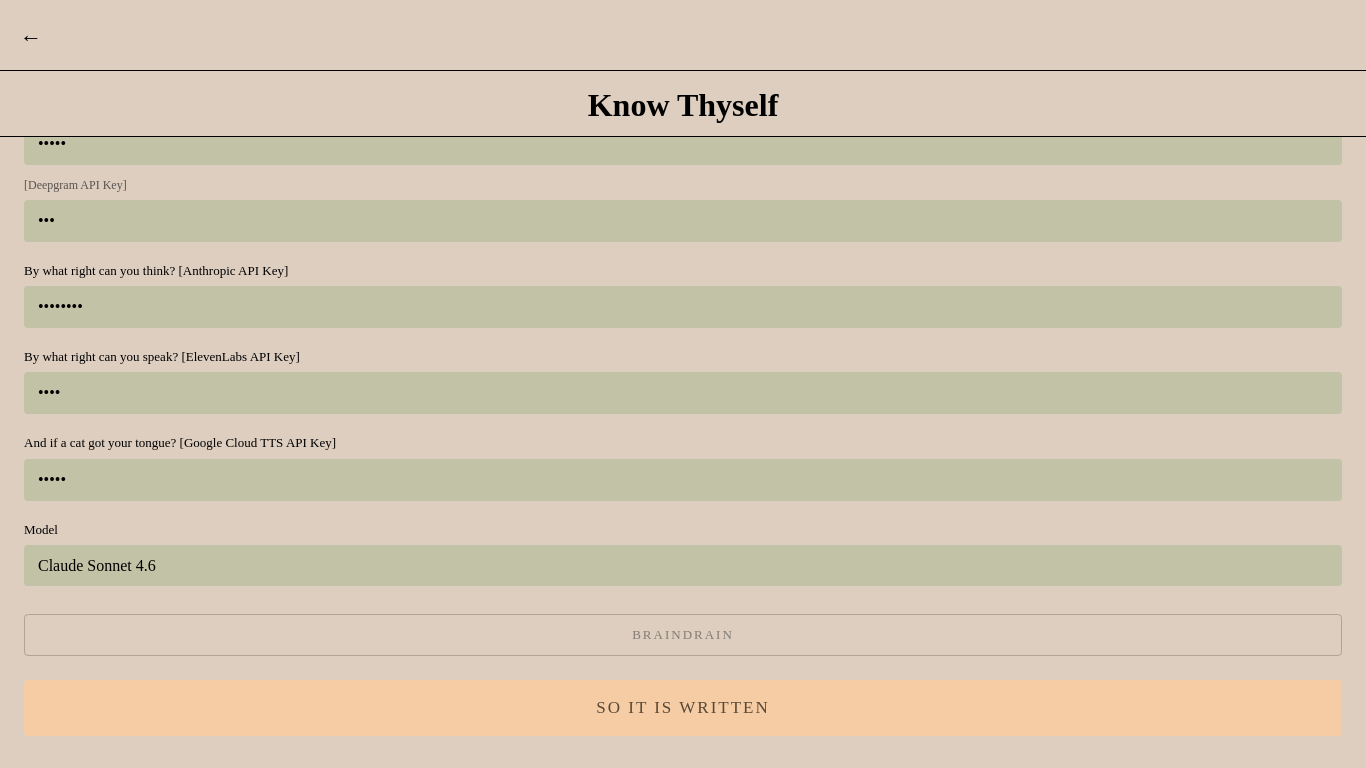
Test: BRAINDRAIN › asks before it wipes anything
The width and height of the screenshot is (1366, 768).
(page scrolled)
Click the button "BRAINDRAIN" at (683, 635), box [24,614,1342,656]
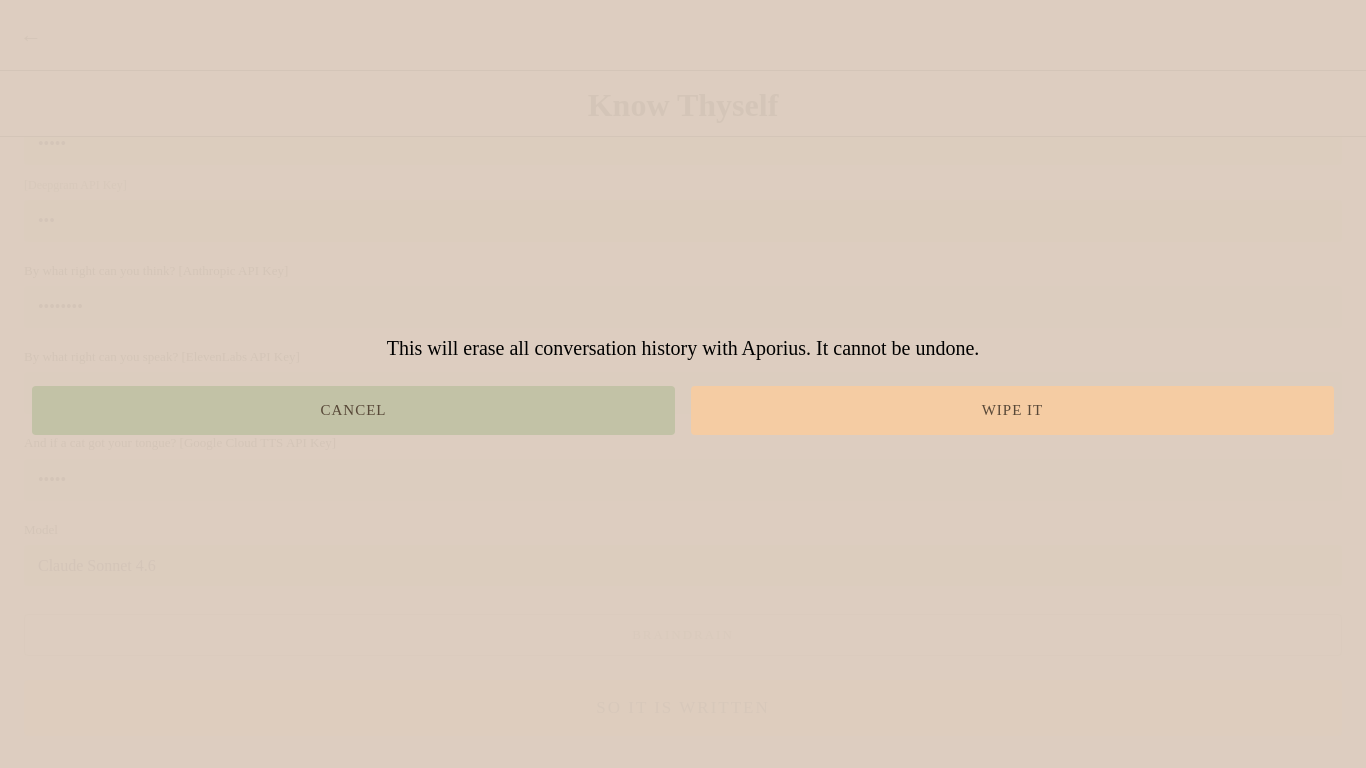
Check: the text "It cannot be undone" is shown, box [387,336,979,358]
